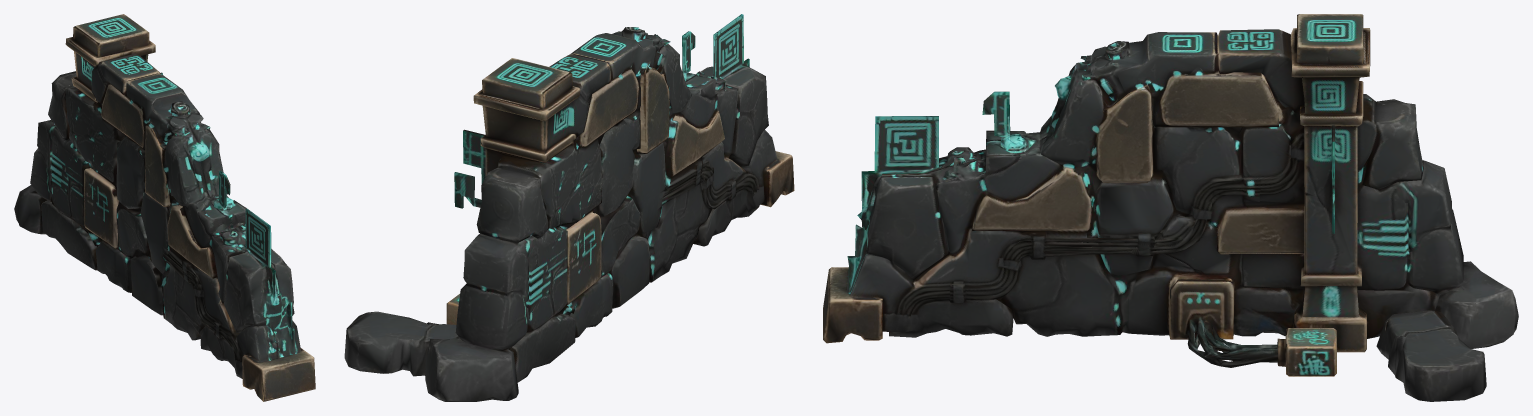
Rendered from COBERTURA_FBX.fbx.
3 renders of one model, left to right at view 1: azimuth 30°, elevation 25°; view 2: azimuth 150°, elevation 25°; view 3: azimuth 270°, elevation 25°, orthographic. The views are drawn at different scales.
Visible parts, largest first — view 1: tripo_node_ebd5ac2e; view 2: tripo_node_ebd5ac2e; view 3: tripo_node_ebd5ac2e.
Part boxes in pixels (box(x1,y1,x2,y2)): tripo_node_ebd5ac2e: box(14, 14, 315, 401); tripo_node_ebd5ac2e: box(344, 14, 794, 401); tripo_node_ebd5ac2e: box(823, 14, 1518, 401).
Size of the model in its own units: 33.08 by 48.37 by 100.
Materials: 1 (1 with a texture image).
